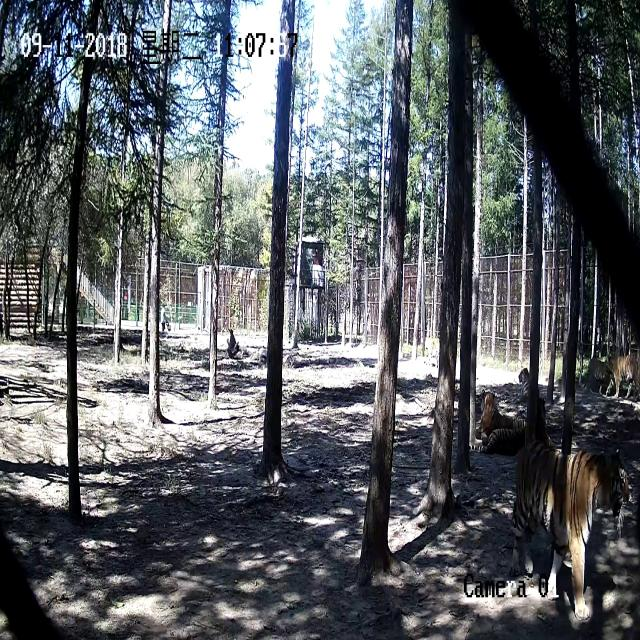Tiger: (510, 435, 629, 633), (474, 383, 524, 453), (604, 349, 640, 399), (512, 362, 542, 411), (581, 352, 613, 393), (419, 331, 447, 364)
